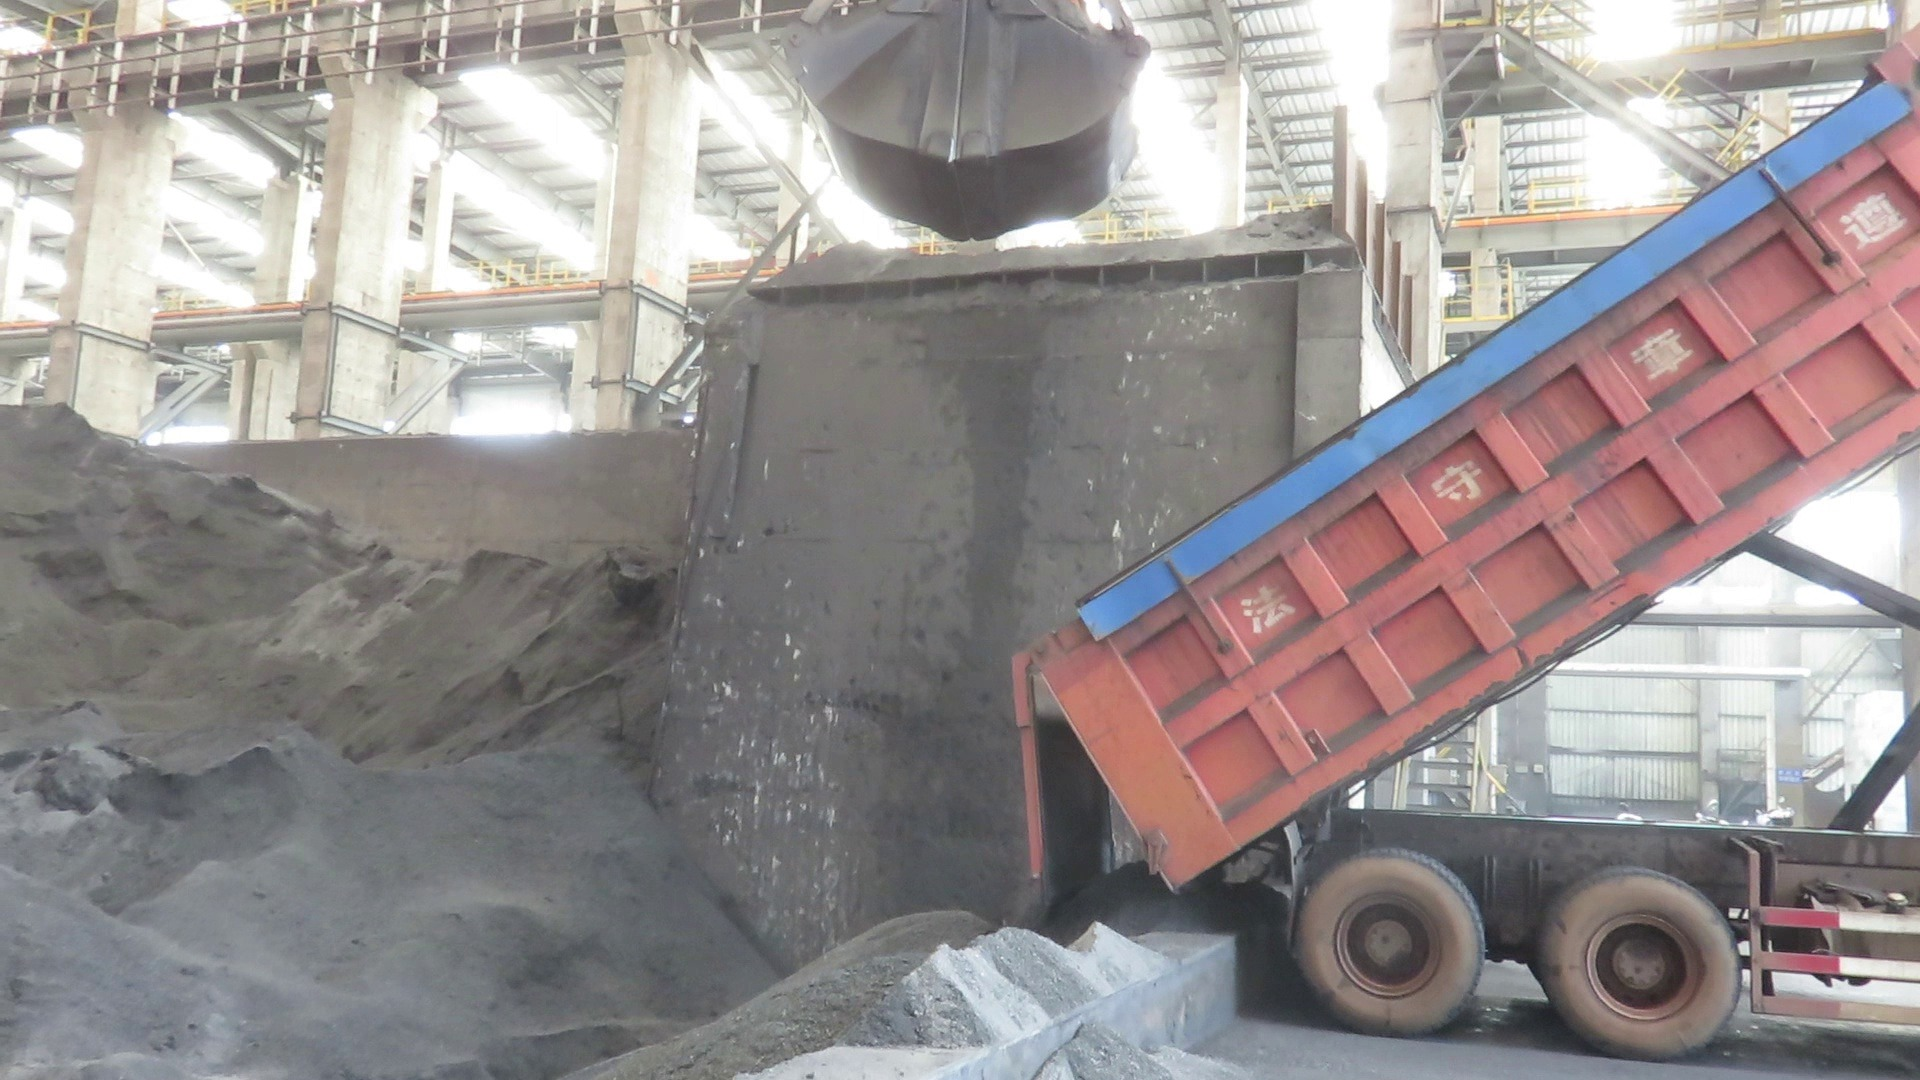grab: (796, 0, 1155, 247)
truck: (996, 22, 1920, 1072)
